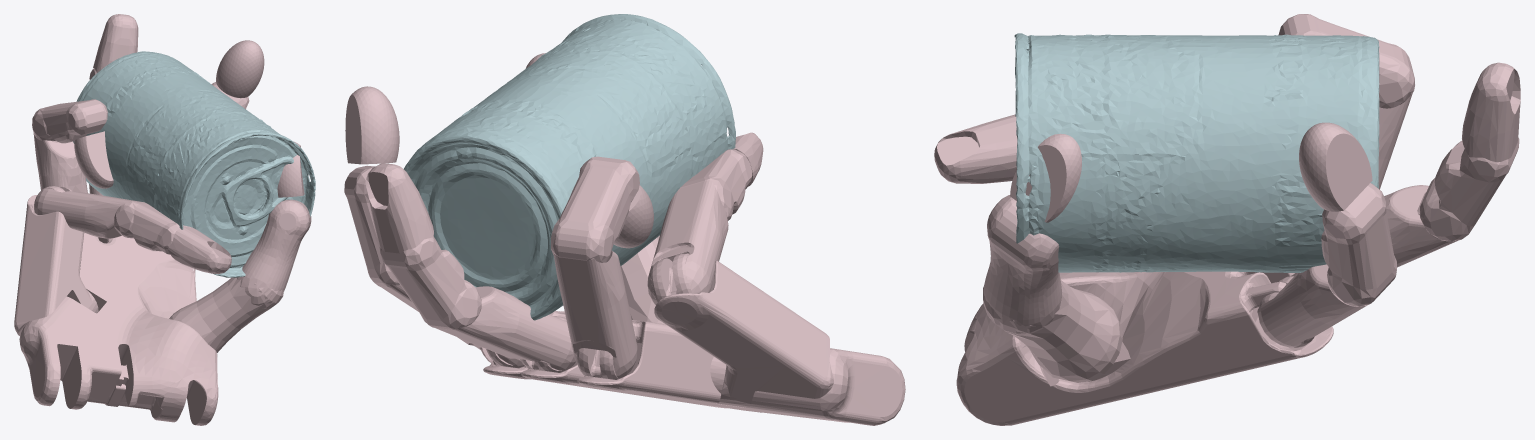
Rendered from grasp_0.glb.
3 views of the same model, side by side, from view 1: azimuth 30°, elevation 25°; view 2: azimuth 150°, elevation 25°; view 3: azimuth 270°, elevation 25° (orthographic). The views are drawn at different scales.
Visible parts, largest first — view 1: world; view 2: world; view 3: world.
Boxes of the visible parts, x1=… form: world: x1=14, y1=14, x2=315, y2=425; world: x1=344, y1=14, x2=905, y2=425; world: x1=934, y1=14, x2=1520, y2=425.
Size of the model in its own units: 0.156 by 0.1298 by 0.1635.
